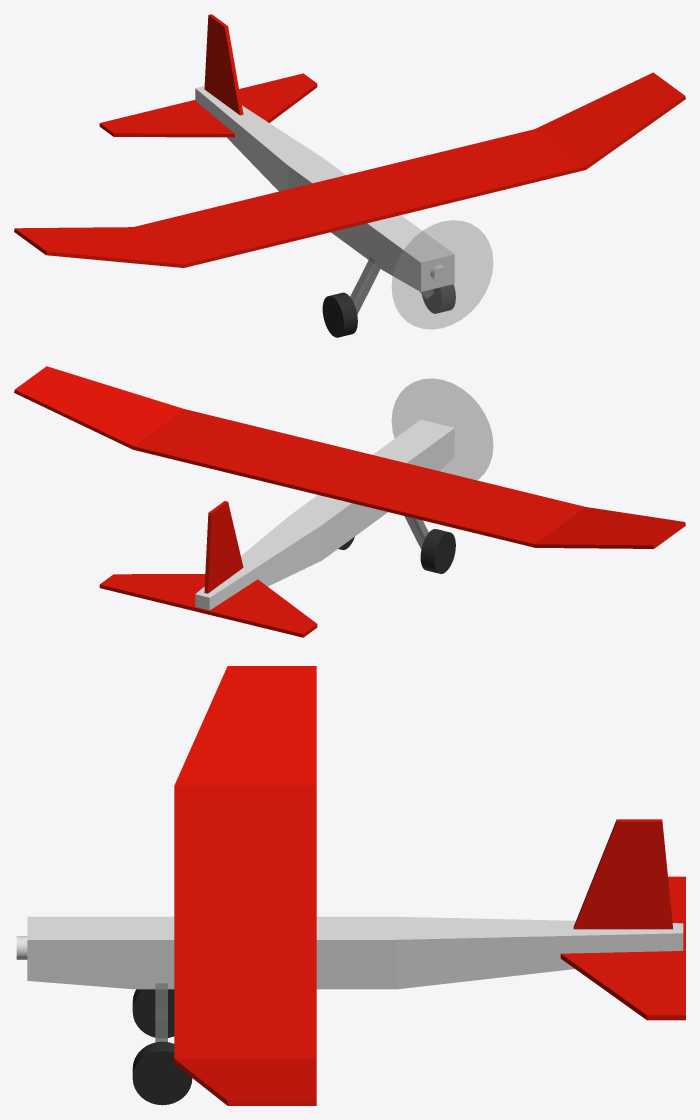
File: Aircraft.glb
3 renders of one model, top to bottom at view 1: azimuth 30°, elevation 25°; view 2: azimuth 150°, elevation 25°; view 3: azimuth 270°, elevation 25°, orthographic. The views are drawn at different scales.
Visible parts, largest first — view 1: Wing, Fuselage, Propeller, Horizontal Stab, Vertical Stab, Wheel, Landing Gear; view 2: Wing, Fuselage, Horizontal Stab, Propeller, Vertical Stab, Wheel; view 3: Wing, Fuselage, Vertical Stab, Horizontal Stab, Wheel, Landing Gear.
Part boxes in pixels (<box>): Wing: <box>14,72,685,267</box>; Fuselage: <box>195,86,454,291</box>; Propeller: <box>392,220,492,329</box>; Horizontal Stab: <box>99,73,317,137</box>; Vertical Stab: <box>204,14,243,115</box>; Wheel: <box>322,284,455,337</box>; Landing Gear: <box>350,257,433,314</box>; Wing: <box>14,366,685,548</box>; Fuselage: <box>195,419,454,610</box>; Horizontal Stab: <box>99,574,317,637</box>; Propeller: <box>392,378,492,479</box>; Vertical Stab: <box>204,501,243,593</box>; Wheel: <box>338,529,455,573</box>; Wing: <box>174,666,316,1105</box>; Fuselage: <box>27,916,683,989</box>; Vertical Stab: <box>573,819,672,929</box>; Horizontal Stab: <box>560,876,685,1020</box>; Wheel: <box>132,989,192,1105</box>; Landing Gear: <box>155,983,167,1042</box>.
Bounding box in the file's own units: 0.9422 × 0.2488 × 0.6145.
